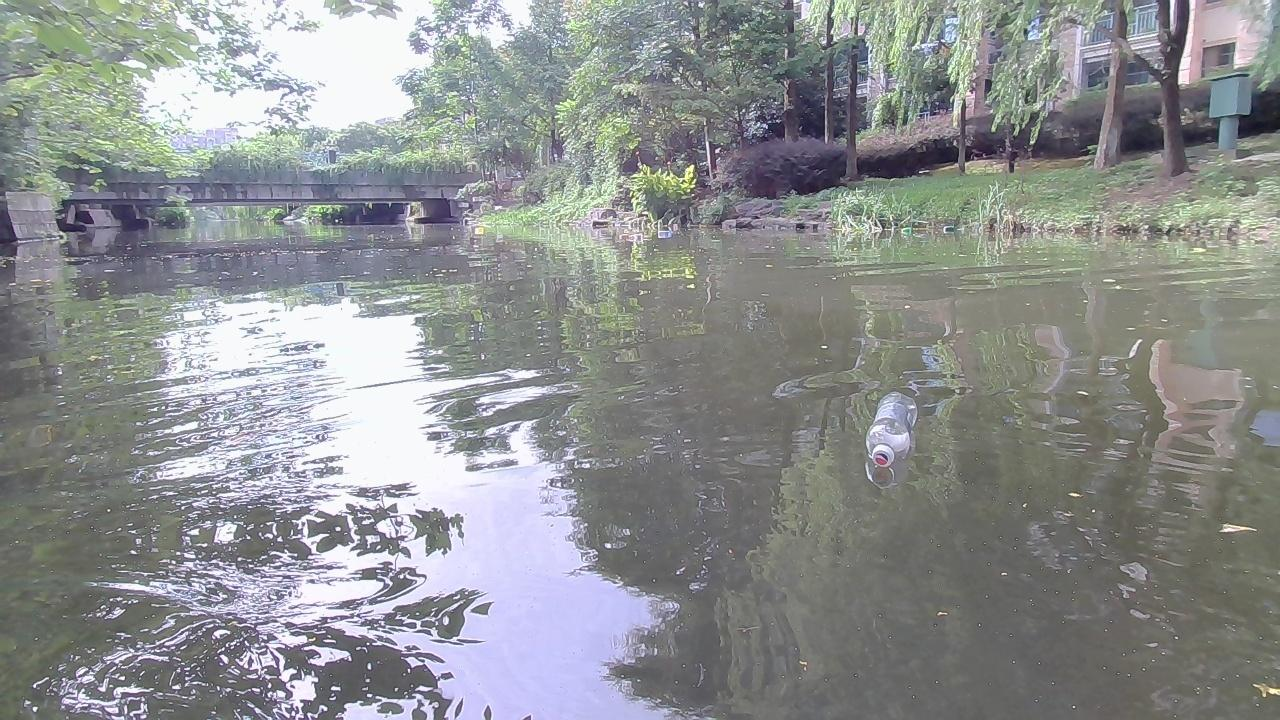bottle: (865, 390, 914, 470), (616, 231, 640, 244), (657, 230, 677, 238), (895, 227, 912, 236), (471, 227, 482, 234)
